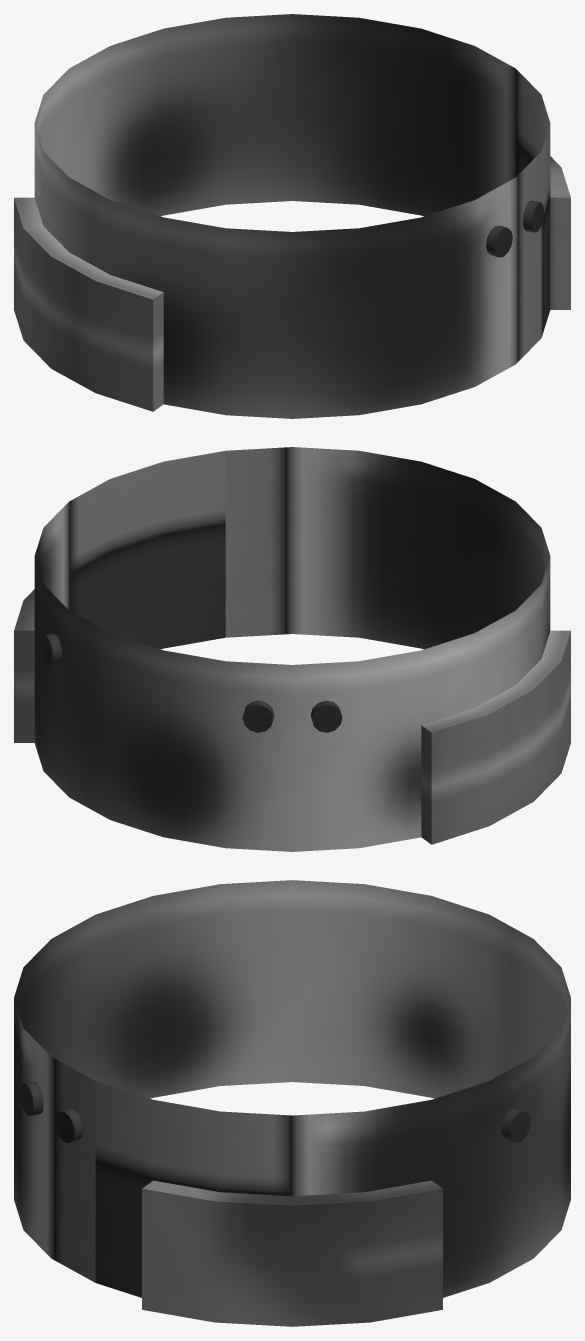
The model's file is 4mv_battery_s0_2.obj.
3 renders of one model, top to bottom at view 1: azimuth 30°, elevation 25°; view 2: azimuth 150°, elevation 25°; view 3: azimuth 270°, elevation 25°, orthographic. The views are drawn at different scales.
Parts seen in each view (by area): view 1: mesh1; view 2: mesh1; view 3: mesh1.
Boxes of the visible parts, x1=… form: mesh1: x1=14, y1=14, x2=570, y2=418; mesh1: x1=14, y1=447, x2=570, y2=851; mesh1: x1=14, y1=880, x2=570, y2=1326.
Size of the model in its own units: 0.675 by 0.25 by 0.625.
